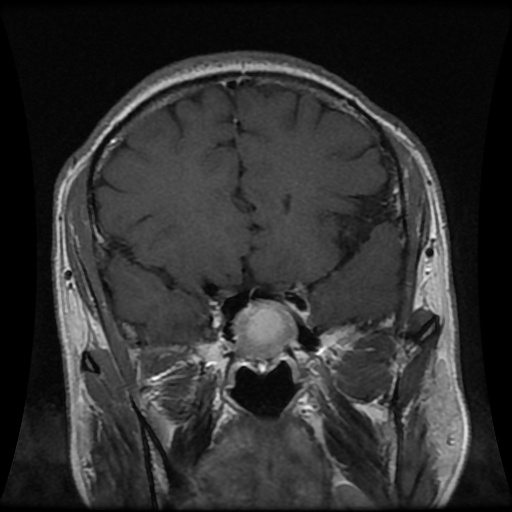pituitary: (231, 297, 299, 359)
